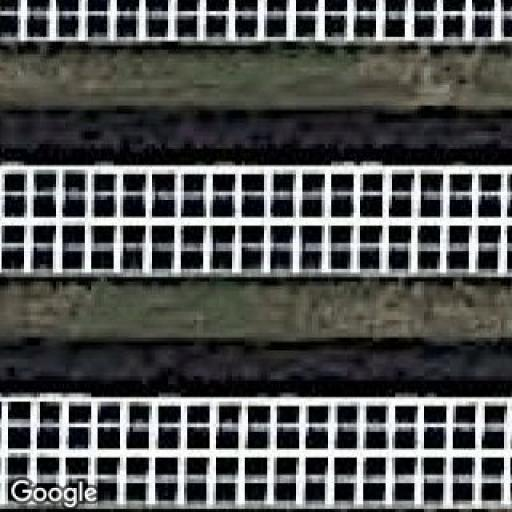solar-panel: (1, 398, 512, 511), (0, 168, 512, 274), (0, 2, 512, 52)
